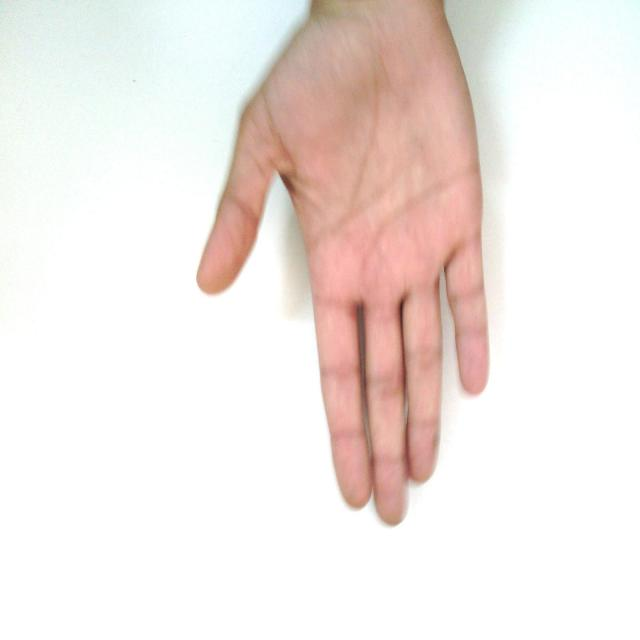others: (186, 1, 538, 537)
